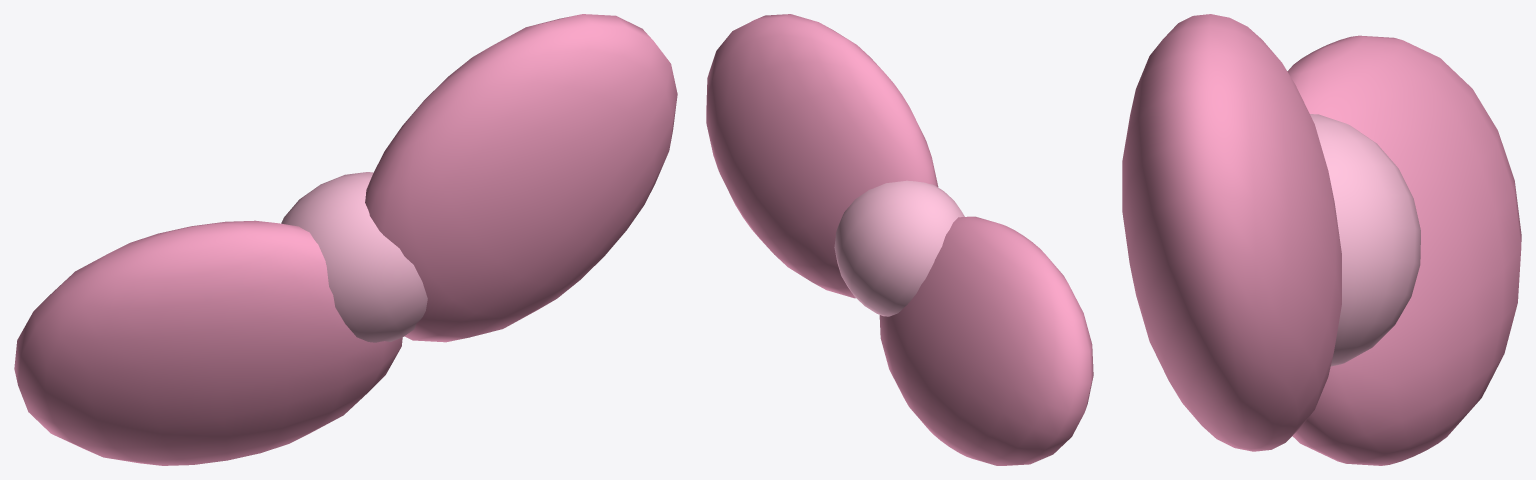
The model's file is bow.glb.
The picture shows the model from 3 angles, left to right: view 1: azimuth 30°, elevation 25°; view 2: azimuth 150°, elevation 25°; view 3: azimuth 270°, elevation 25°; orthographic projection. The views are drawn at different scales.
Parts seen in each view (by area): view 1: BowWing_1, BowWing_-1, BowKnot; view 2: BowWing_1, BowWing_-1, BowKnot; view 3: BowWing_1, BowWing_-1, BowKnot.
Part boxes in pixels (x1,y1,x2,y2): BowWing_1: (365, 14, 677, 342); BowWing_-1: (14, 220, 402, 465); BowKnot: (281, 172, 427, 342); BowWing_1: (706, 14, 938, 298); BowWing_-1: (879, 216, 1093, 465); BowKnot: (834, 180, 964, 316); BowWing_1: (1122, 14, 1341, 451); BowWing_-1: (1287, 35, 1521, 465); BowKnot: (1310, 114, 1420, 366).
Size of the model in its own units: 0.3778 by 0.2694 by 0.1606.
